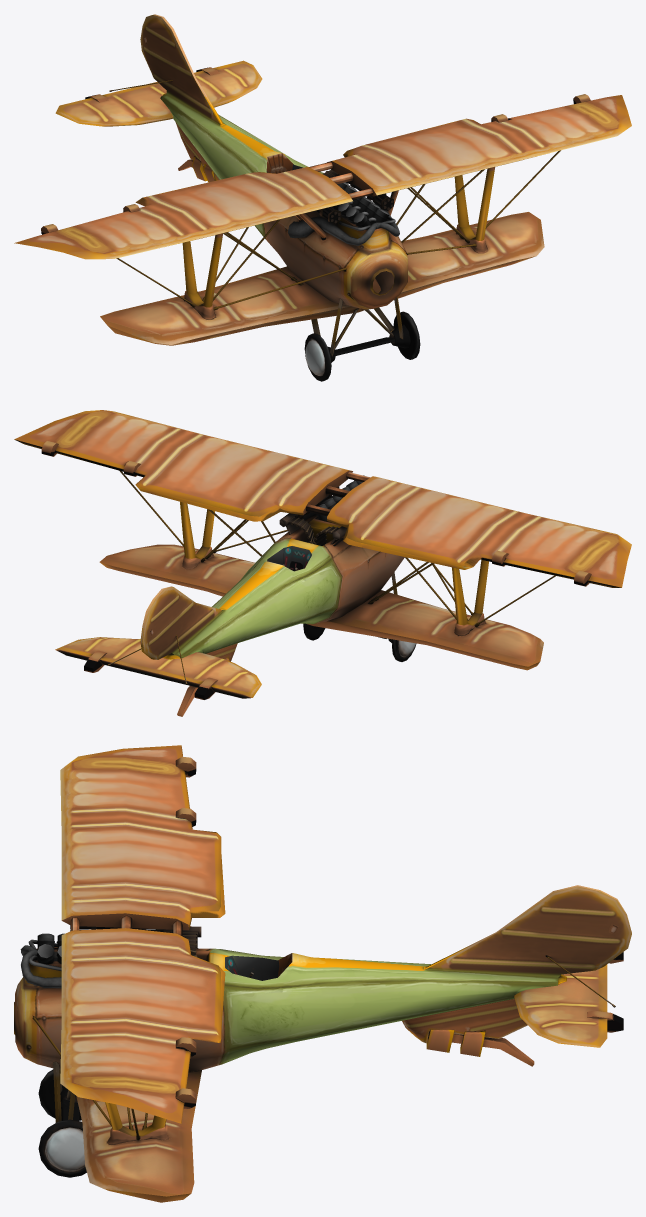
The model's file is plane_body.dae.
3 views of the same model, one above another, from view 1: azimuth 30°, elevation 25°; view 2: azimuth 150°, elevation 25°; view 3: azimuth 270°, elevation 25° (orthographic). The views are drawn at different scales.
Visible parts, largest first — view 1: Plane; view 2: Plane; view 3: Plane.
Boxes of the visible parts, x1,y1,x2,y2 form: Plane: (14,14,631,381); Plane: (14,410,631,716); Plane: (14,745,631,1202).
Size of the model in its own units: 6.71 by 4.63 by 2.17.
1 material, 1 textured.
